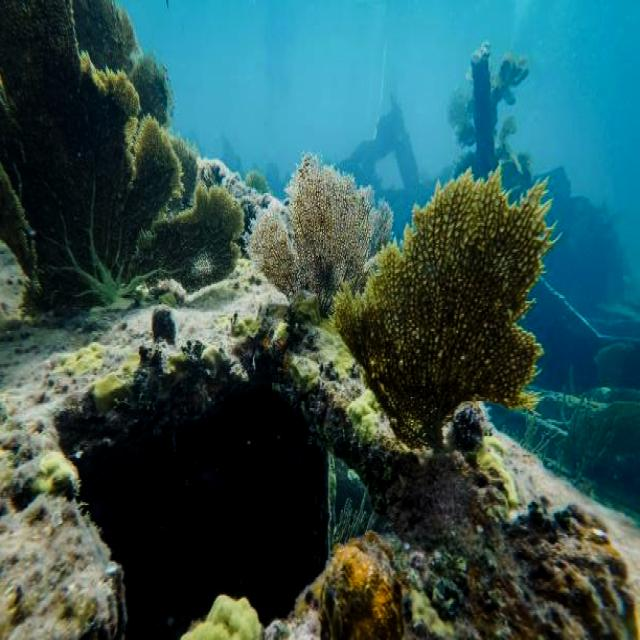Coral: (0, 0, 245, 319), (328, 164, 562, 456), (242, 149, 394, 319)
